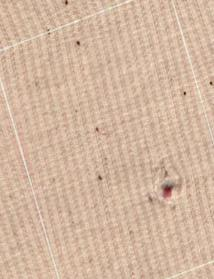hole: (149, 172, 186, 207)
stain: (89, 172, 117, 192), (73, 32, 93, 56), (86, 121, 108, 140), (175, 85, 193, 107), (53, 0, 77, 15), (201, 75, 213, 98)
